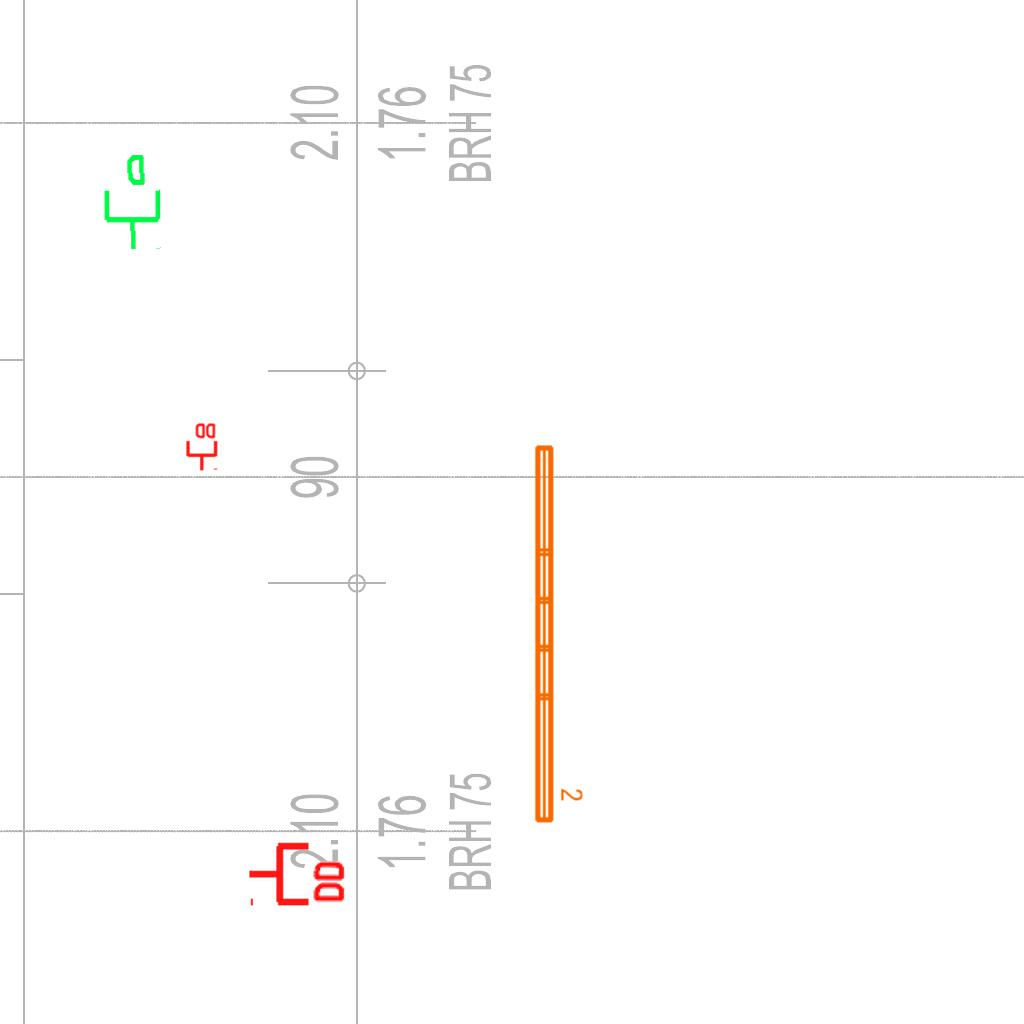Ambulanz_Pendelleuchte_LED: (529, 440, 585, 827)
Datenanschluss_einfach: (95, 151, 166, 253)
Datenanschluss_zweifach: (246, 838, 349, 907), (184, 421, 218, 472)
